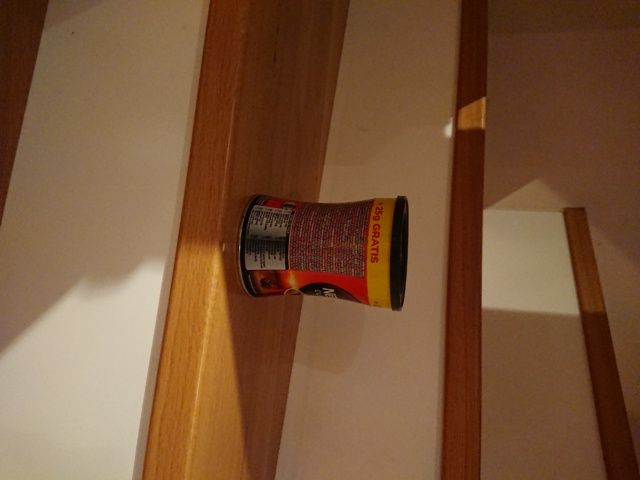Nescafe Classic 225g: (234, 191, 412, 314)
